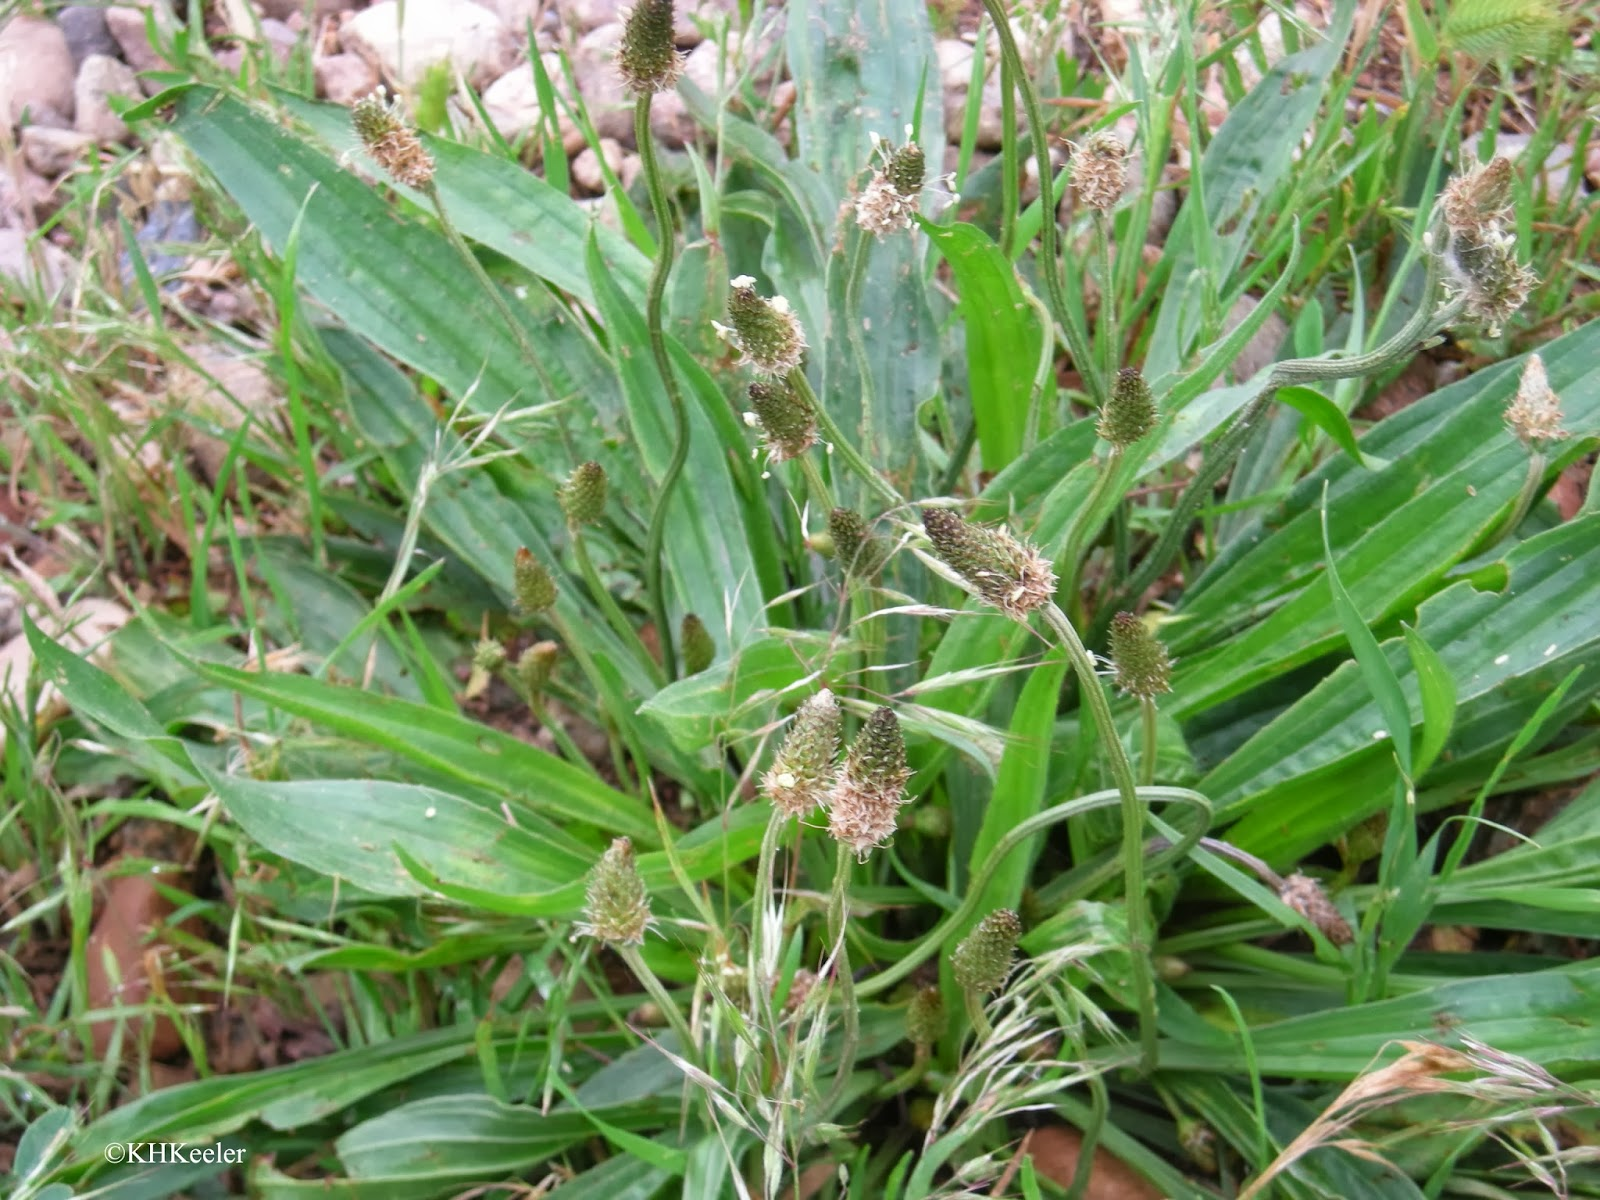buckhorn plantain: (238, 9, 1545, 1191)
